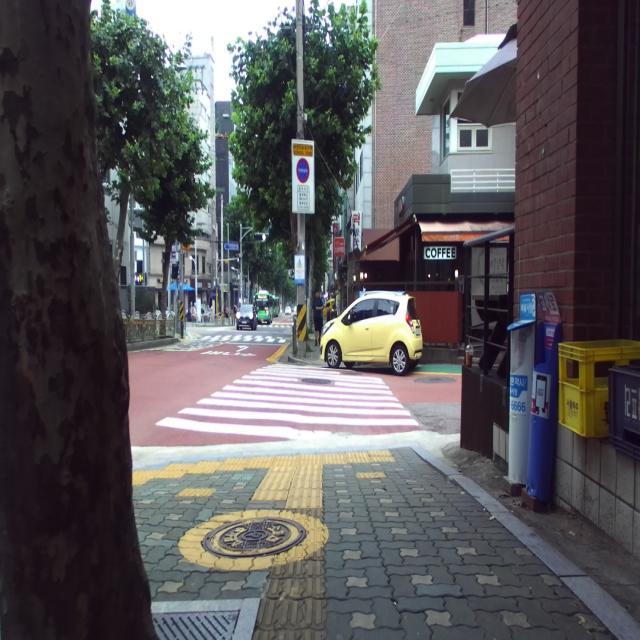횡단보도: (155, 364, 420, 439), (197, 334, 292, 346)
